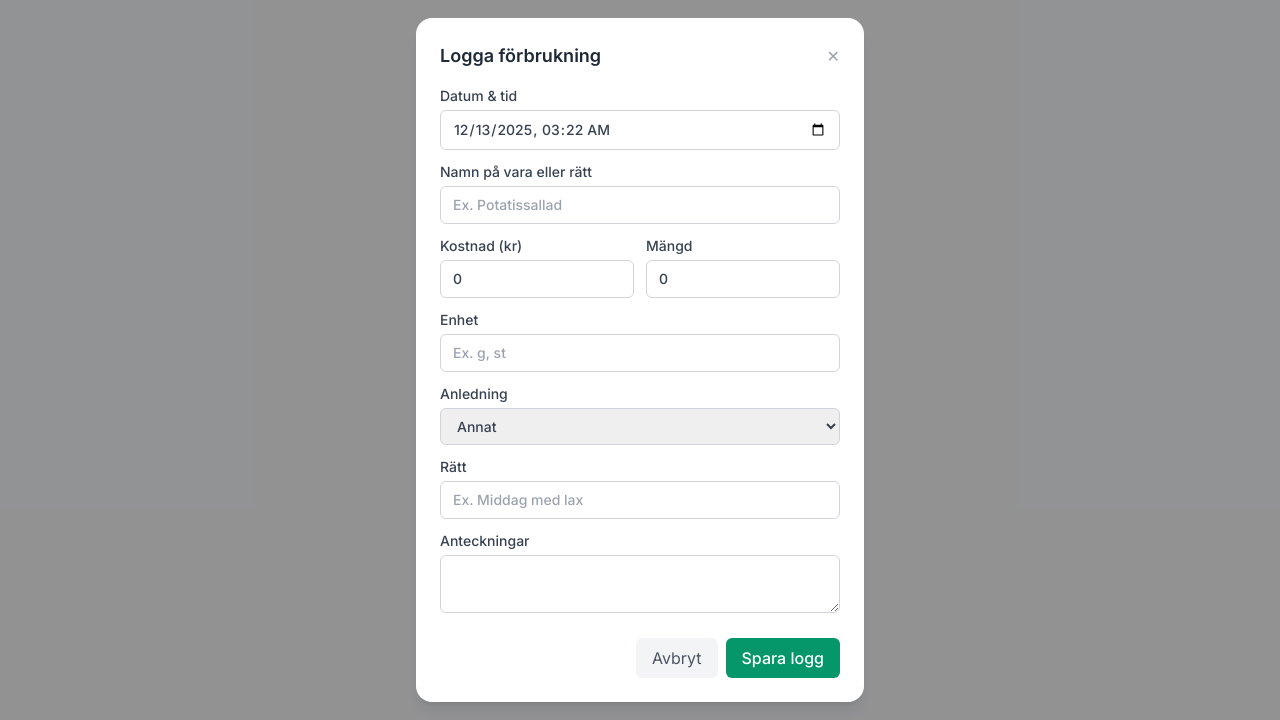
Scenario: ManualConsumptionLogModal › shows loading state during submission
// Fill required field
Type "Test Item" into the field with placeholder "Ex. Potatissallad". click: (640, 205)
box: 440,186 -> 840,224
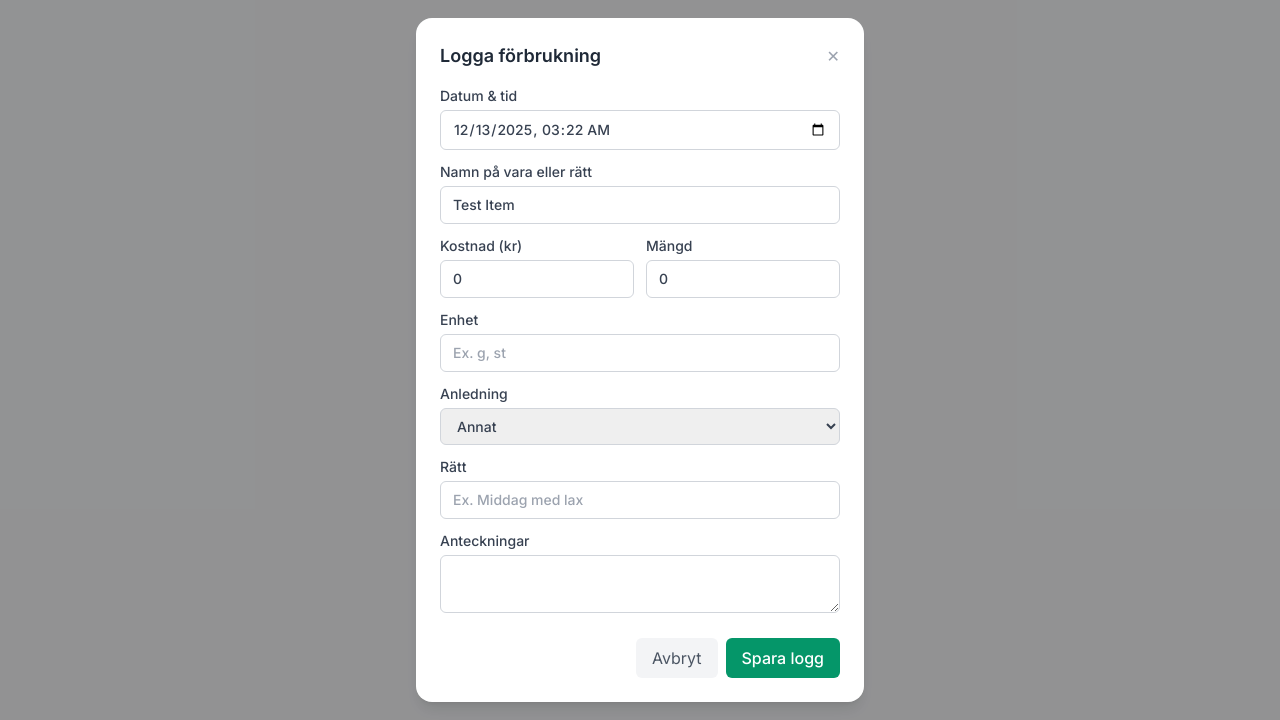
Click the button "Spara logg". click: (783, 658)
box: 726,638 -> 840,678
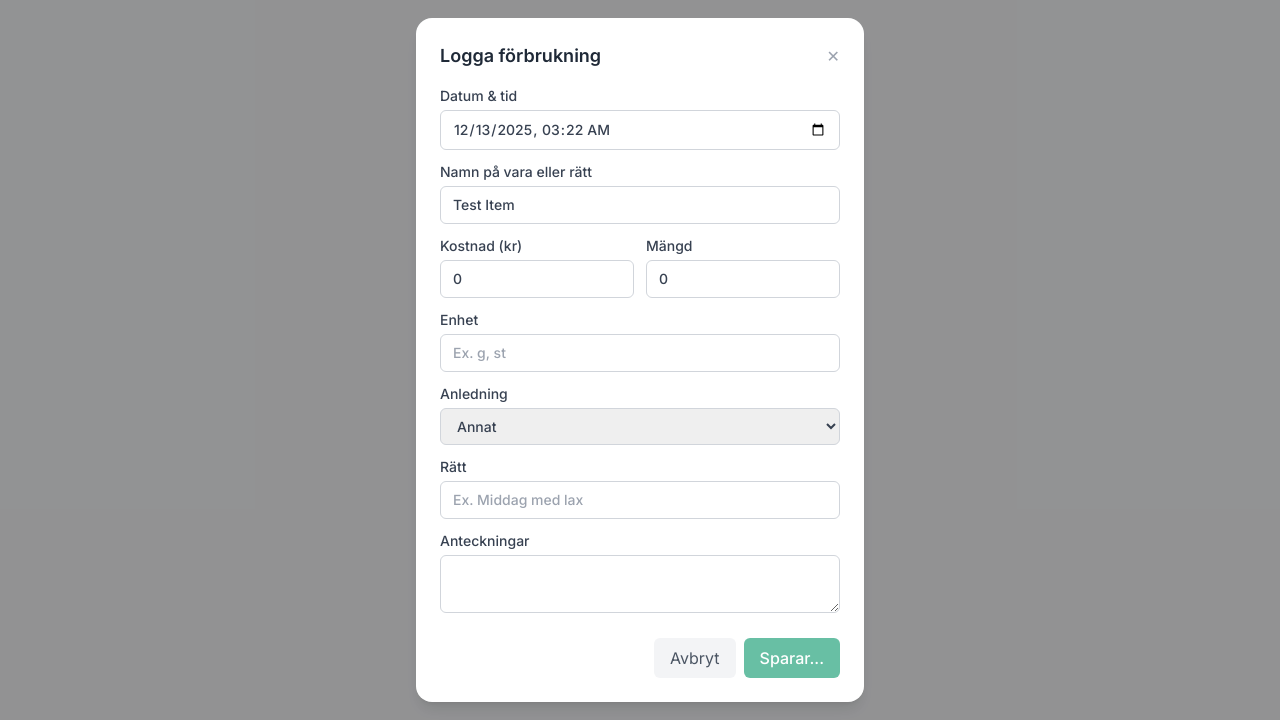
Now the button "Sparar..." is disabled, box 744,638 -> 840,678
